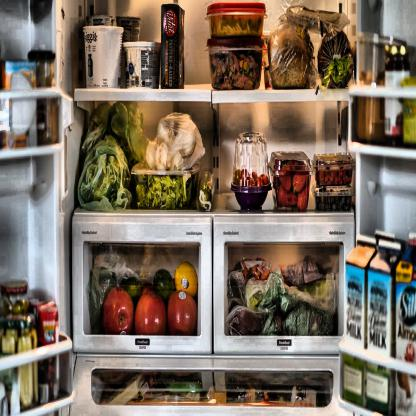apple: (167, 291, 197, 334), (103, 288, 131, 332), (136, 294, 166, 331)
lemon: (175, 264, 197, 296)
milk: (368, 240, 395, 356), (395, 244, 416, 362), (346, 237, 367, 348)
parsley: (151, 175, 186, 208)
strawberries: (277, 187, 296, 206), (293, 174, 306, 192), (279, 172, 291, 190), (296, 193, 308, 211)
tangerine: (155, 270, 174, 297)
yoghurt: (83, 24, 123, 86), (122, 41, 162, 89)
